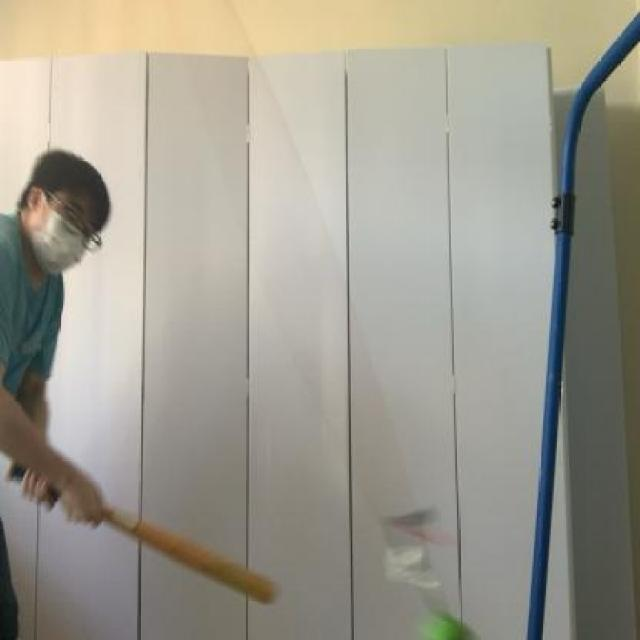baseball: (406, 603, 500, 640)
